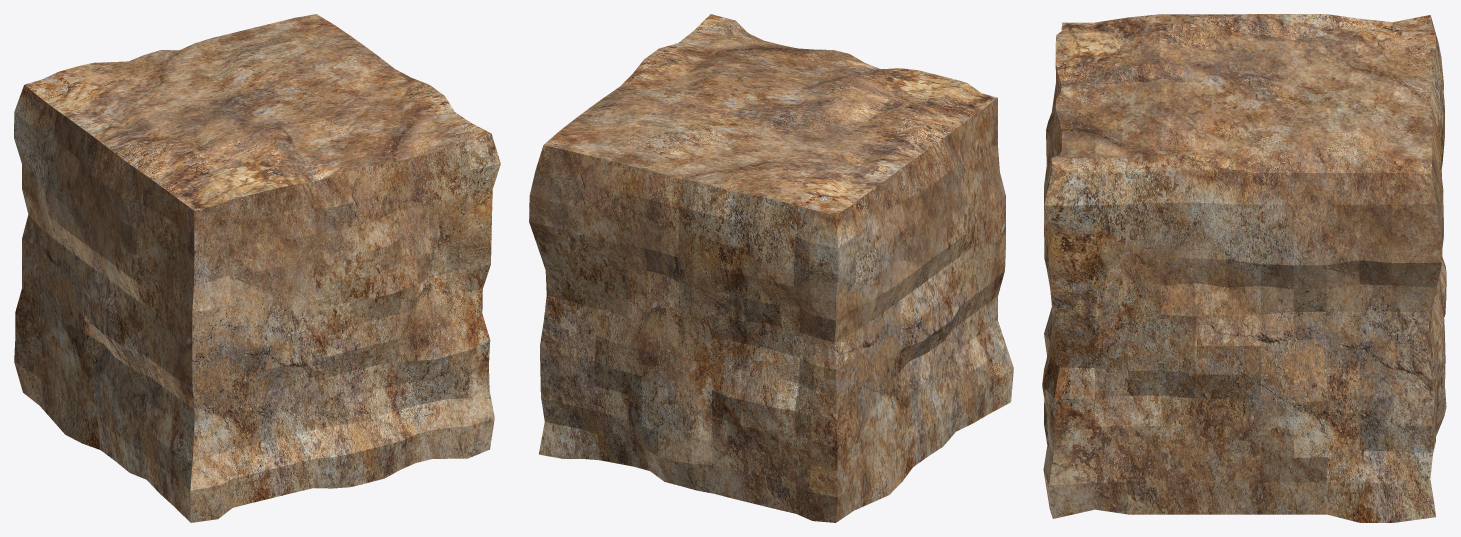
Rendered from Calçada1.fbx.
3 views of the same model, side by side, from view 1: azimuth 30°, elevation 25°; view 2: azimuth 150°, elevation 25°; view 3: azimuth 270°, elevation 25° (orthographic). The views are drawn at different scales.
Visible parts, largest first — view 1: Cube; view 2: Cube; view 3: Cube.
Part boxes in pixels (box(x1,y1,x2,y2)): Cube: box(14, 14, 500, 522); Cube: box(529, 14, 1013, 522); Cube: box(1042, 14, 1446, 522).
Size of the model in its own units: 224 by 225 by 222.
Materials: 1 (1 with a texture image).
